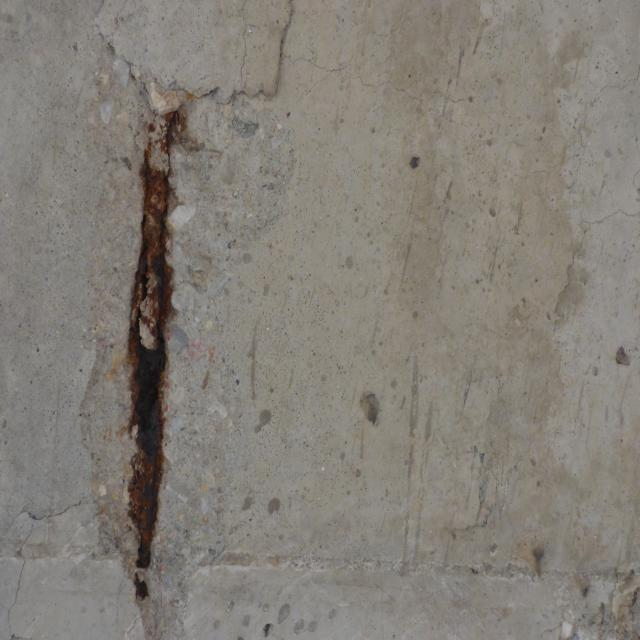corrosion: (96, 63, 224, 619)
